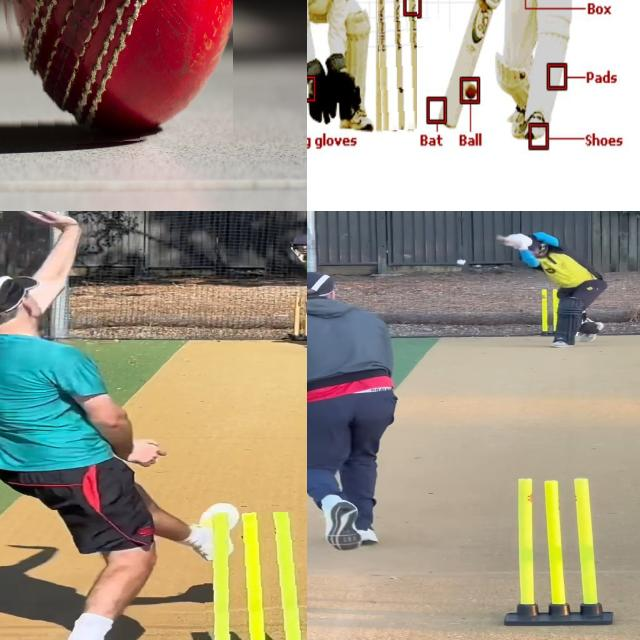Cricket ball: (0, 0, 233, 148), (462, 78, 479, 107), (455, 258, 468, 266)
Stumps: (505, 478, 613, 626), (192, 512, 307, 640), (375, 0, 417, 131)
